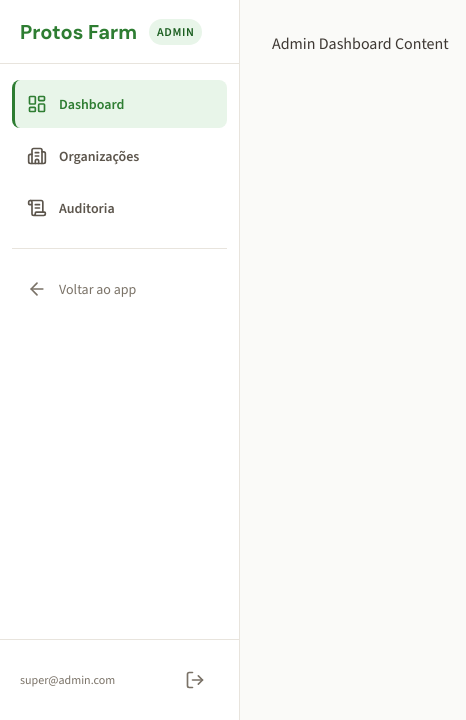
Test: AdminLayout › should navigate between pages
Click the link "Organizações".
click(83, 156)  # box [27, 146, 139, 166]
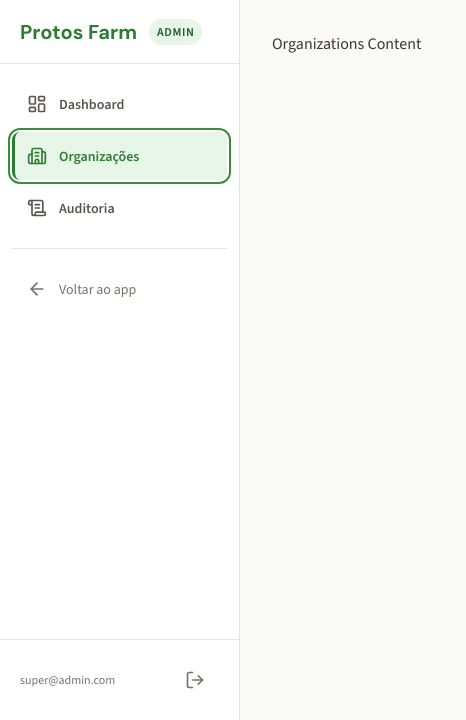
expect the text "Organizations Content" is shown: met, box [272, 33, 421, 54]
